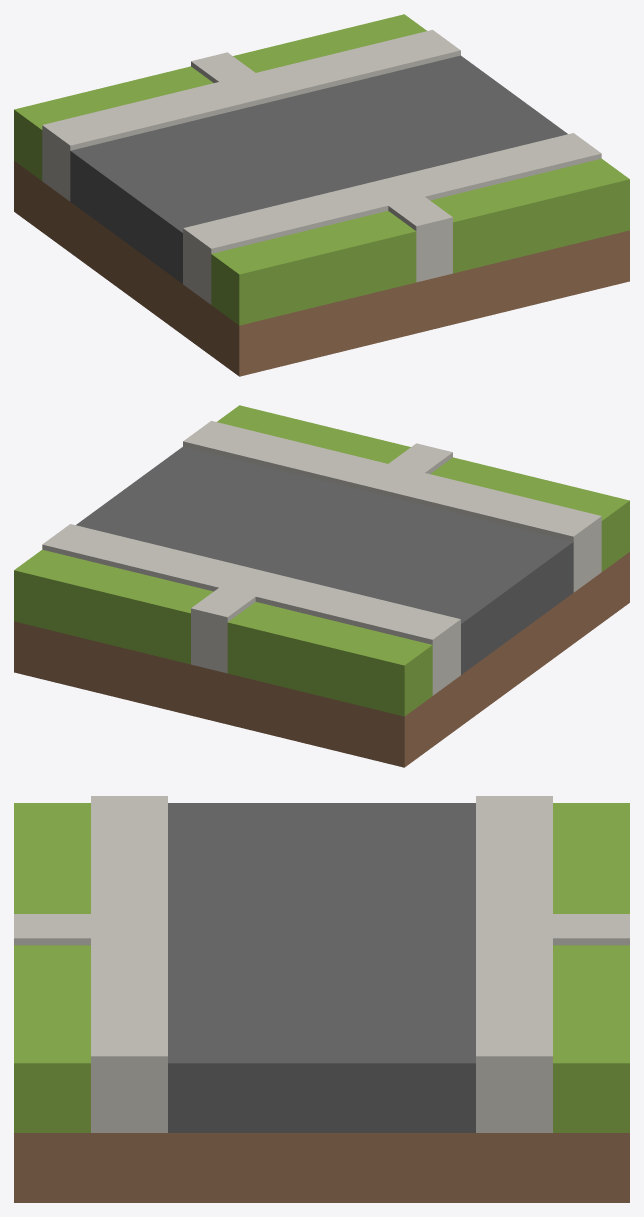
Rendered from road-straight-house-2-low.obj.
3 renders of one model, top to bottom at view 1: azimuth 30°, elevation 25°; view 2: azimuth 150°, elevation 25°; view 3: azimuth 270°, elevation 25°, orthographic. The views are drawn at different scales.
Parts seen in each view (by area): view 1: road-straight-house-2-low_Cube.011_basecolors; view 2: road-straight-house-2-low_Cube.011_basecolors; view 3: road-straight-house-2-low_Cube.011_basecolors.
Part boxes in pixels (x1,y1,x2,y2): road-straight-house-2-low_Cube.011_basecolors: (14,14,629,376); road-straight-house-2-low_Cube.011_basecolors: (14,405,629,767); road-straight-house-2-low_Cube.011_basecolors: (14,796,629,1202).
Bounding box in the file's own units: 8 × 2.1 × 8.
1 material, 1 textured.
